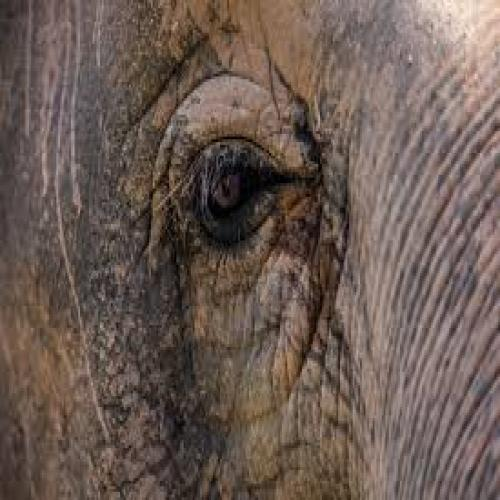asian_elephant-endangered: (13, 21, 491, 485)
